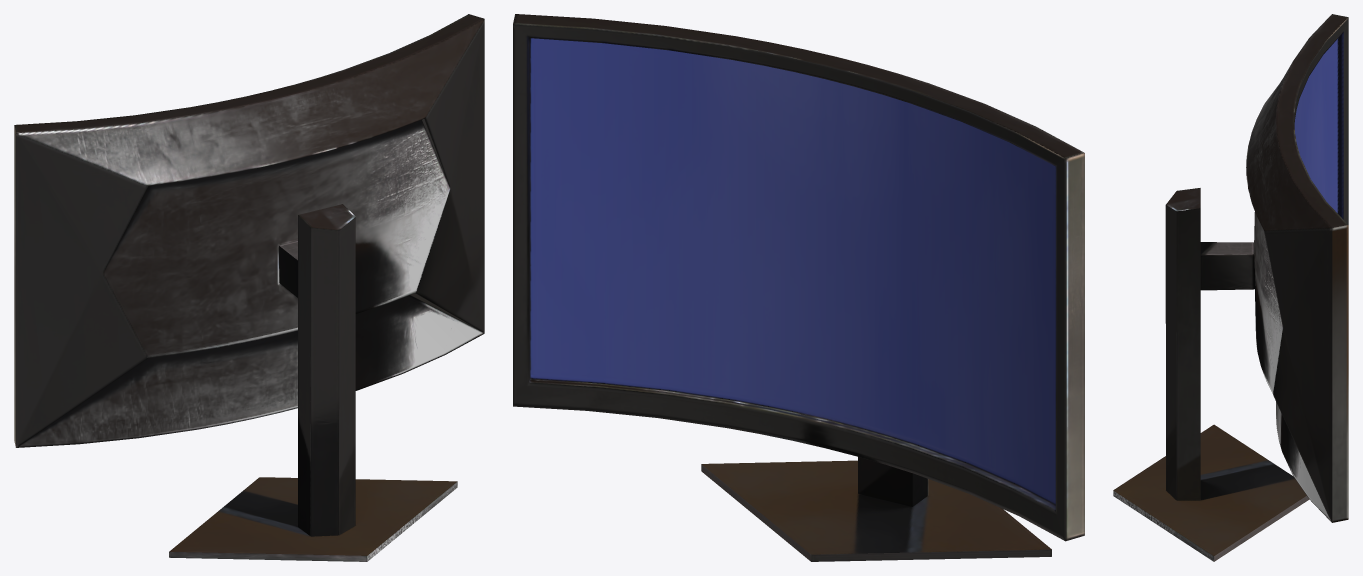
File: main.glb
The picture shows the model from 3 angles, left to right: view 1: azimuth 30°, elevation 25°; view 2: azimuth 150°, elevation 25°; view 3: azimuth 270°, elevation 25°; orthographic projection. The views are drawn at different scales.
Parts seen in each view (by area): view 1: Монитор; view 2: Монитор; view 3: Монитор.
Part boxes in pixels (x1,y1,x2,y2): Монитор: (14,14,484,561); Монитор: (513,14,1084,561); Монитор: (1113,14,1348,561).
Bounding box in the file's own units: 4.62 × 3.77 × 2.15.
Materials: 1 (1 with a texture image).
